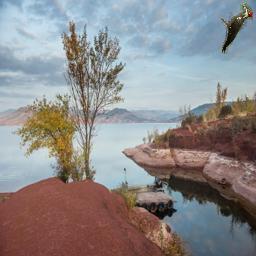Woodpecker: (219, 3, 253, 54)
